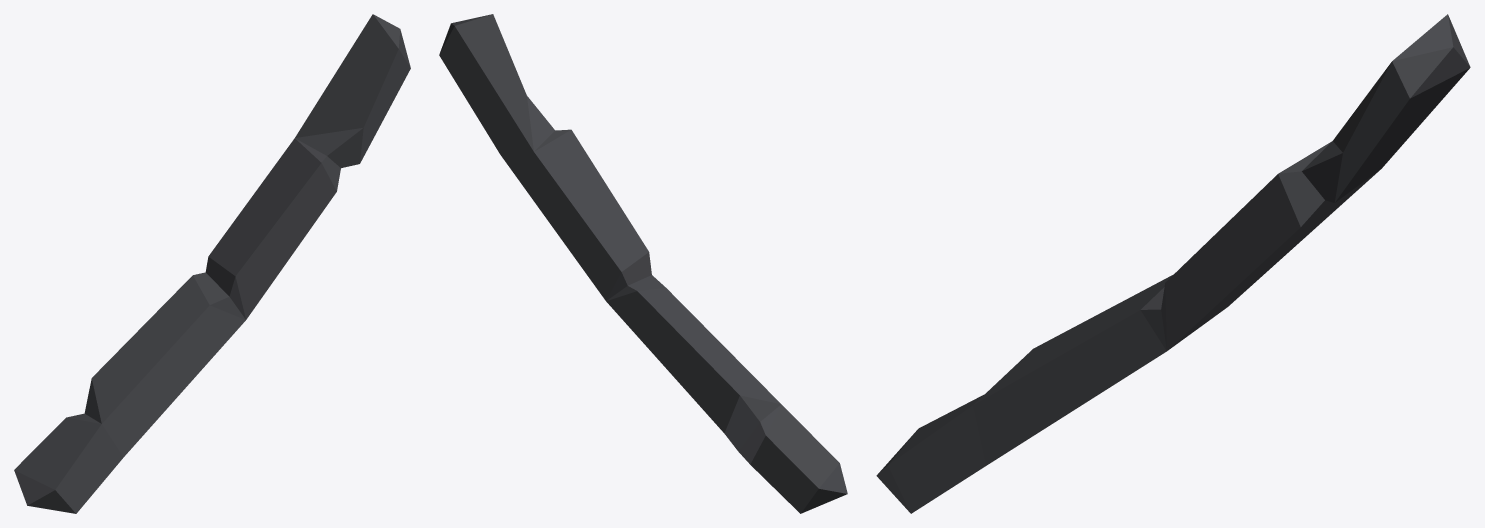
File: SM_L_G_Home_Roof_side.fbx
3 views of the same model, side by side, from view 1: azimuth 30°, elevation 25°; view 2: azimuth 150°, elevation 25°; view 3: azimuth 330°, elevation 25° (orthographic). The views are drawn at different scales.
Visible parts, largest first — view 1: SM_L_G_Home_Roof_side_pillar; view 2: SM_L_G_Home_Roof_side_pillar; view 3: SM_L_G_Home_Roof_side_pillar.
Boxes of the visible parts, x1,y1,x2,y2 form: SM_L_G_Home_Roof_side_pillar: [14, 14, 410, 513]; SM_L_G_Home_Roof_side_pillar: [439, 14, 847, 513]; SM_L_G_Home_Roof_side_pillar: [876, 14, 1470, 513].
Size of the model in its own units: 253 by 253 by 42.91.
